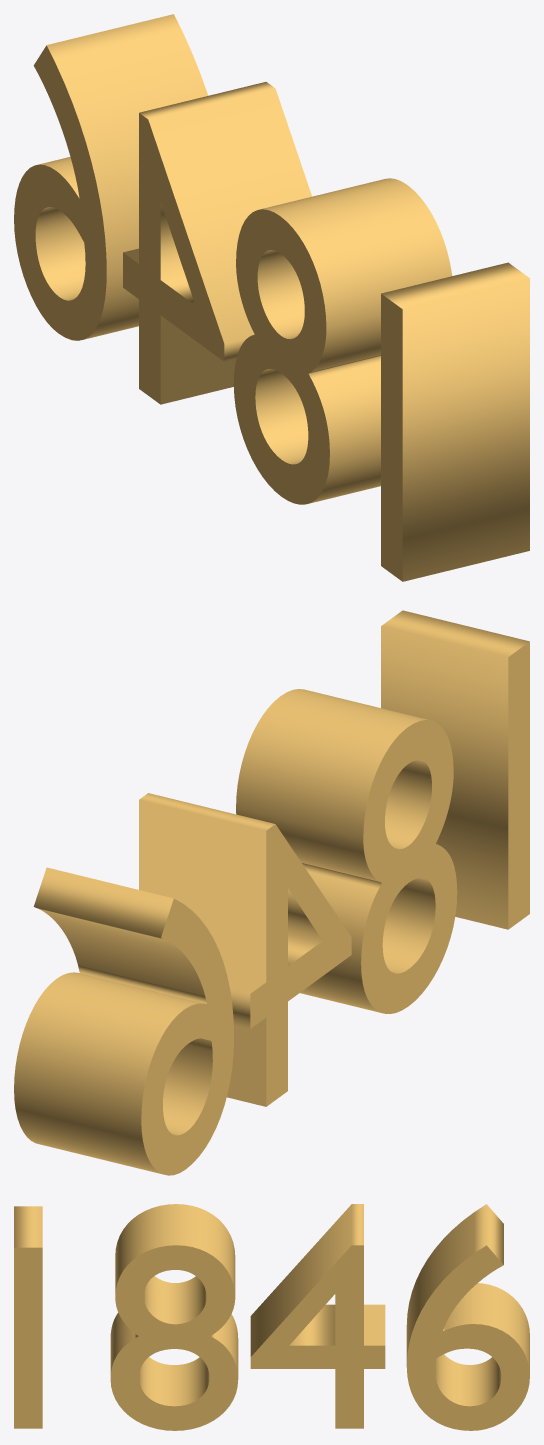
File: scene_date_1846.glb
The picture shows the model from 3 angles, top to bottom: view 1: azimuth 30°, elevation 25°; view 2: azimuth 150°, elevation 25°; view 3: azimuth 270°, elevation 25°; orthographic projection. The views are drawn at different scales.
Parts seen in each view (by area): view 1: Text; view 2: Text; view 3: Text.
Boxes of the visible parts, <box> form: Text: <box>14,14,529,581</box>; Text: <box>14,610,529,1175</box>; Text: <box>14,1204,529,1430</box>.
Bounding box in the file's own units: 1 × 2.1 × 5.29.
